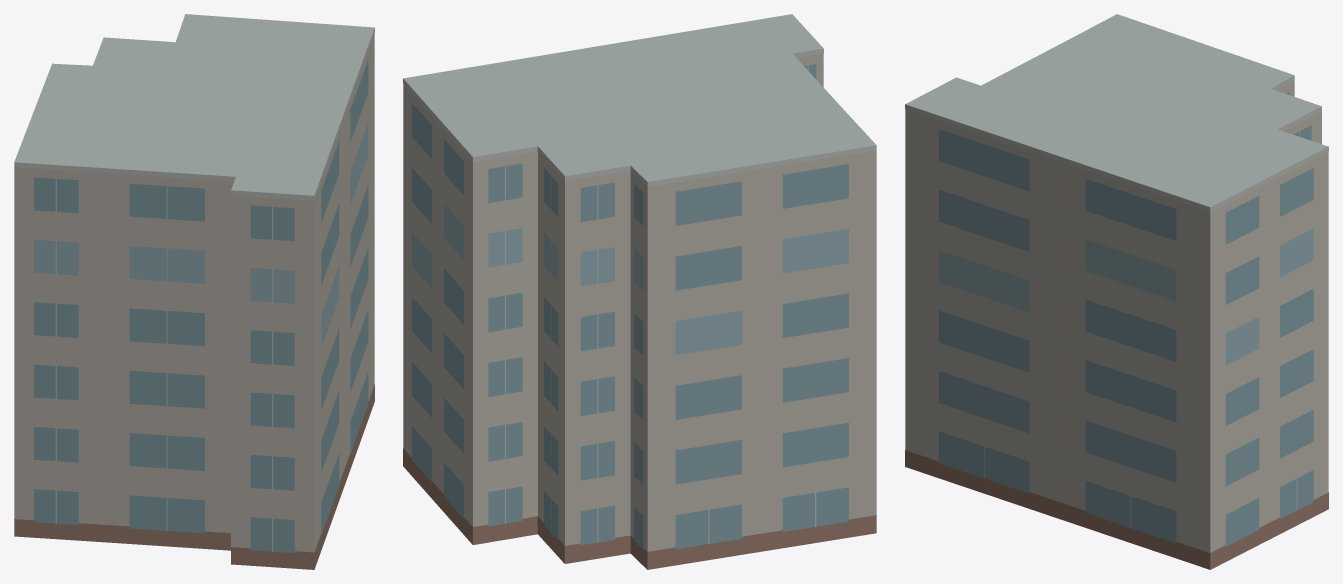
The model's file is survey-upis-32904239.glb.
The picture shows the model from 3 angles, left to right: view 1: azimuth 30°, elevation 25°; view 2: azimuth 150°, elevation 25°; view 3: azimuth 270°, elevation 25°; orthographic projection. The views are drawn at different scales.
Parts seen in each view (by area): view 1: survey-upis-32904239.tmp; view 2: survey-upis-32904239.tmp; view 3: survey-upis-32904239.tmp.
Boxes of the visible parts, bbox=[...] form: survey-upis-32904239.tmp: bbox=[14, 14, 374, 569]; survey-upis-32904239.tmp: bbox=[403, 14, 876, 569]; survey-upis-32904239.tmp: bbox=[905, 14, 1328, 569].
Bounding box in the file's own units: 20.93 × 18.3 × 19.38.
